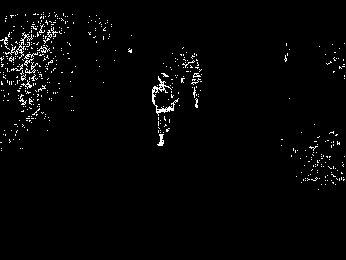person: (152, 69, 176, 147)
